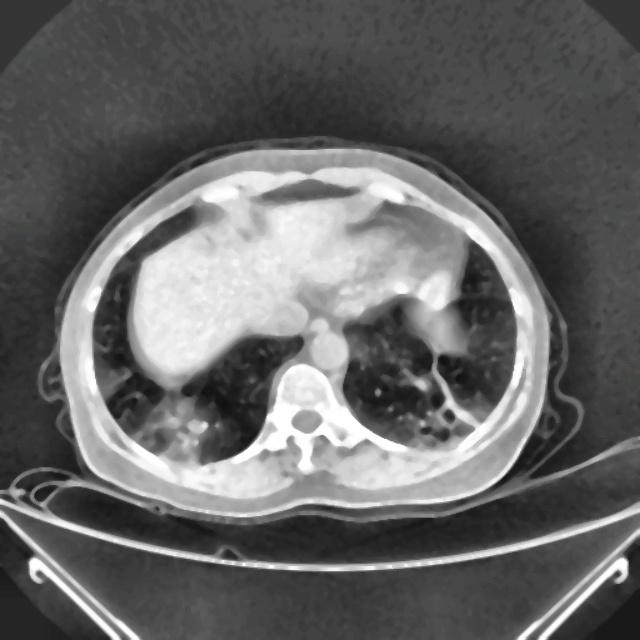covid: (55, 141, 557, 521)
